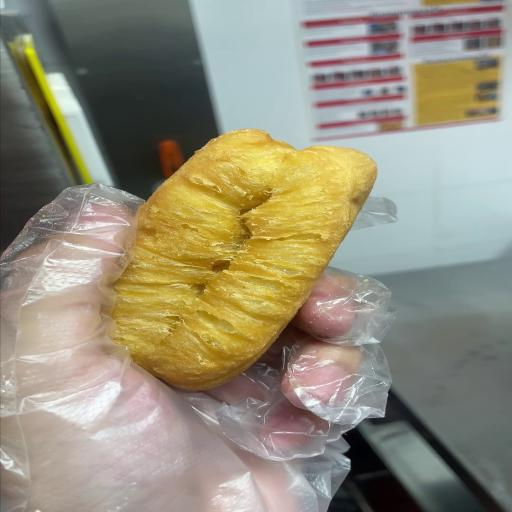brand_golden_good: (112, 129, 376, 390)
